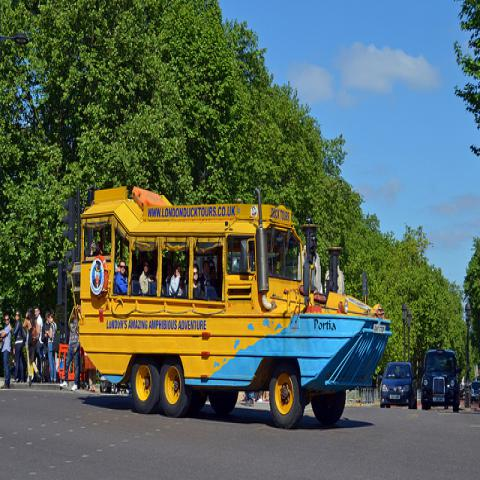bus: (70, 177, 395, 432)
car: (421, 348, 460, 414), (379, 362, 417, 409)
truck: (79, 185, 393, 432)
